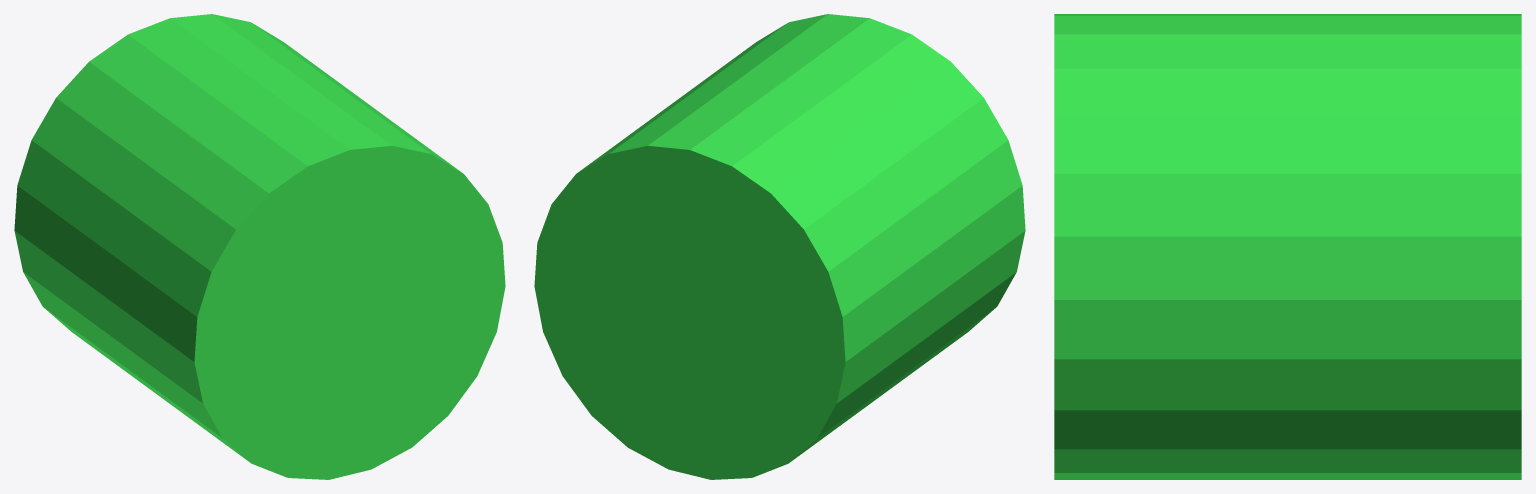
The model's file is pillar_body.dae.
3 views of the same model, side by side, from view 1: azimuth 30°, elevation 25°; view 2: azimuth 150°, elevation 25°; view 3: azimuth 270°, elevation 25° (orthographic). The views are drawn at different scales.
Parts seen in each view (by area): view 1: Cylinder; view 2: Cylinder; view 3: Cylinder.
Part boxes in pixels (x1,y1,x2,y2): Cylinder: [14, 14, 505, 479]; Cylinder: [534, 14, 1025, 479]; Cylinder: [1054, 14, 1521, 479].
Bounding box in the file's own units: 2 × 2 × 1.99.
